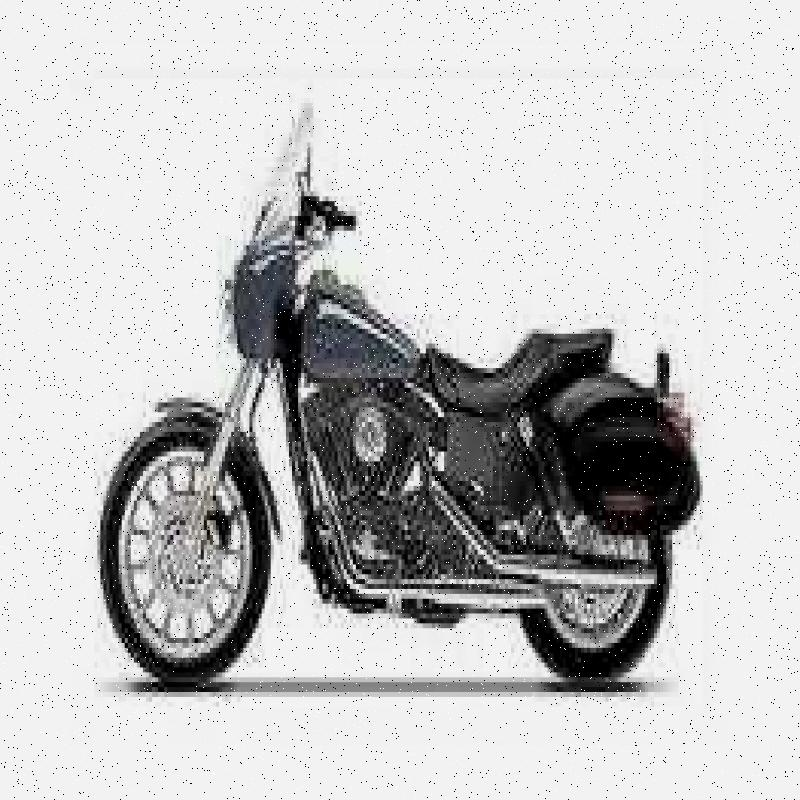bike: (84, 55, 723, 700)
